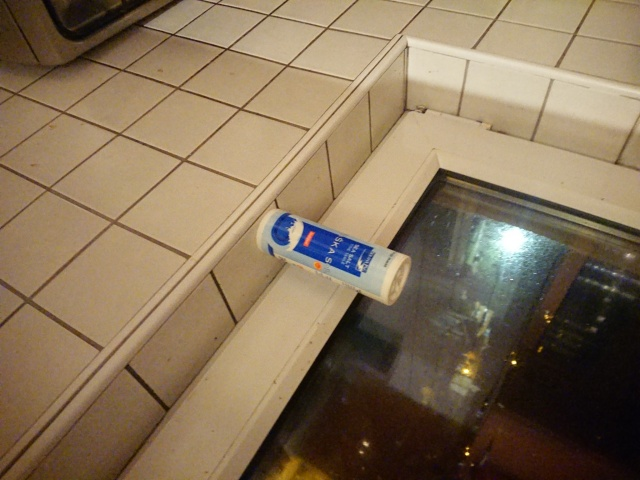Solana Pag Fine Sea Salt 250g: (254, 207, 414, 308)
